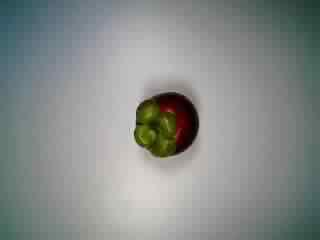mangosteen: (126, 84, 204, 160)
